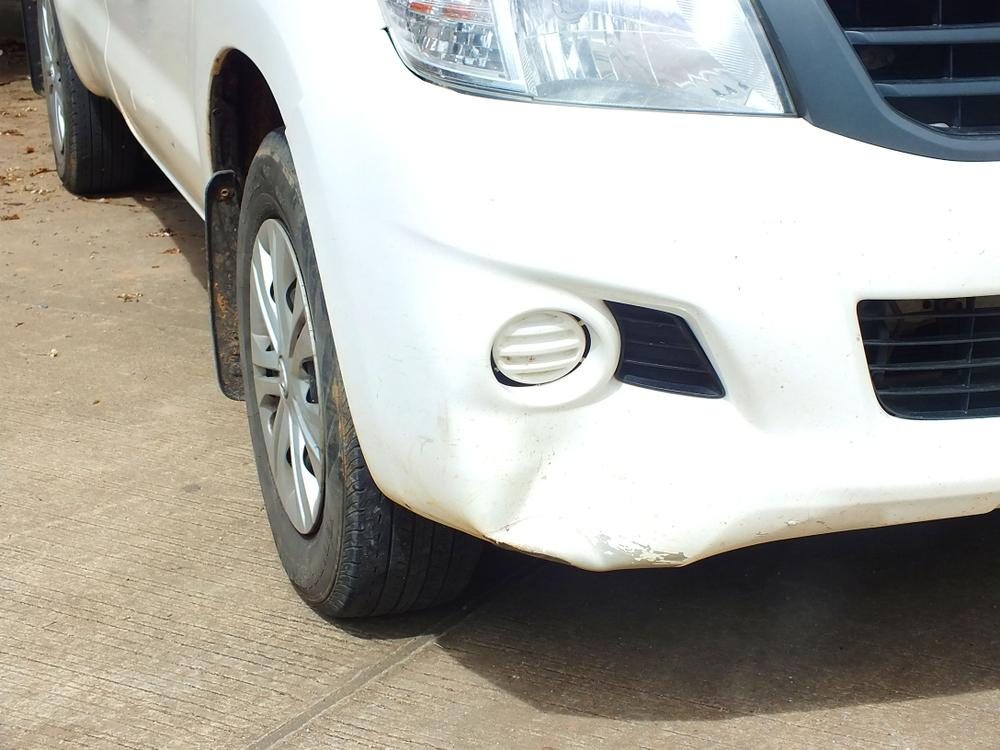dent: (448, 390, 813, 573)
